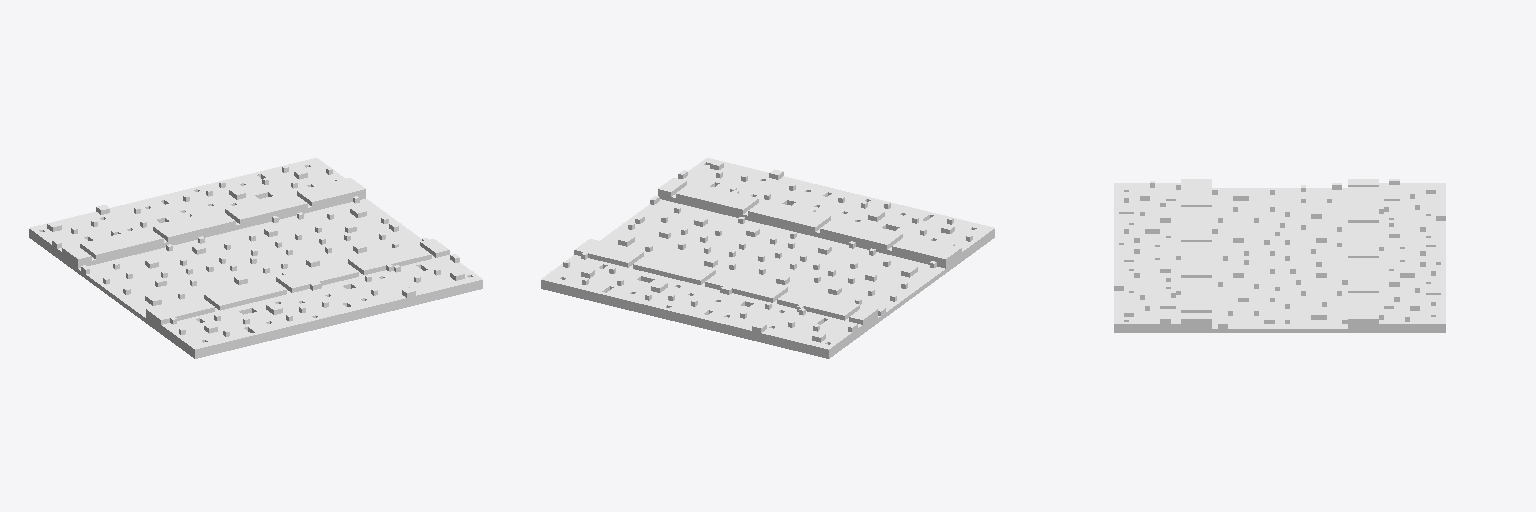
The model's file is EarthPath_1.obj.
3 renders of one model, left to right at view 1: azimuth 30°, elevation 25°; view 2: azimuth 150°, elevation 25°; view 3: azimuth 270°, elevation 25°, orthographic.
Parts seen in each view (by area): view 1: EarthPath_1; view 2: EarthPath_1; view 3: EarthPath_1.
Boxes of the visible parts, box(x1,y1,x2,y2) form: EarthPath_1: box(29, 158, 482, 358); EarthPath_1: box(541, 158, 994, 358); EarthPath_1: box(1114, 179, 1445, 332).
Bounding box in the file's own units: 1 × 0.0469 × 1.